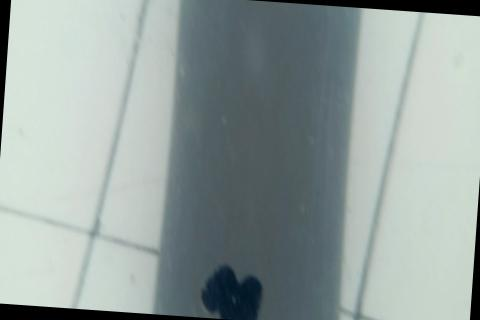kebocoran: (196, 259, 268, 320)
